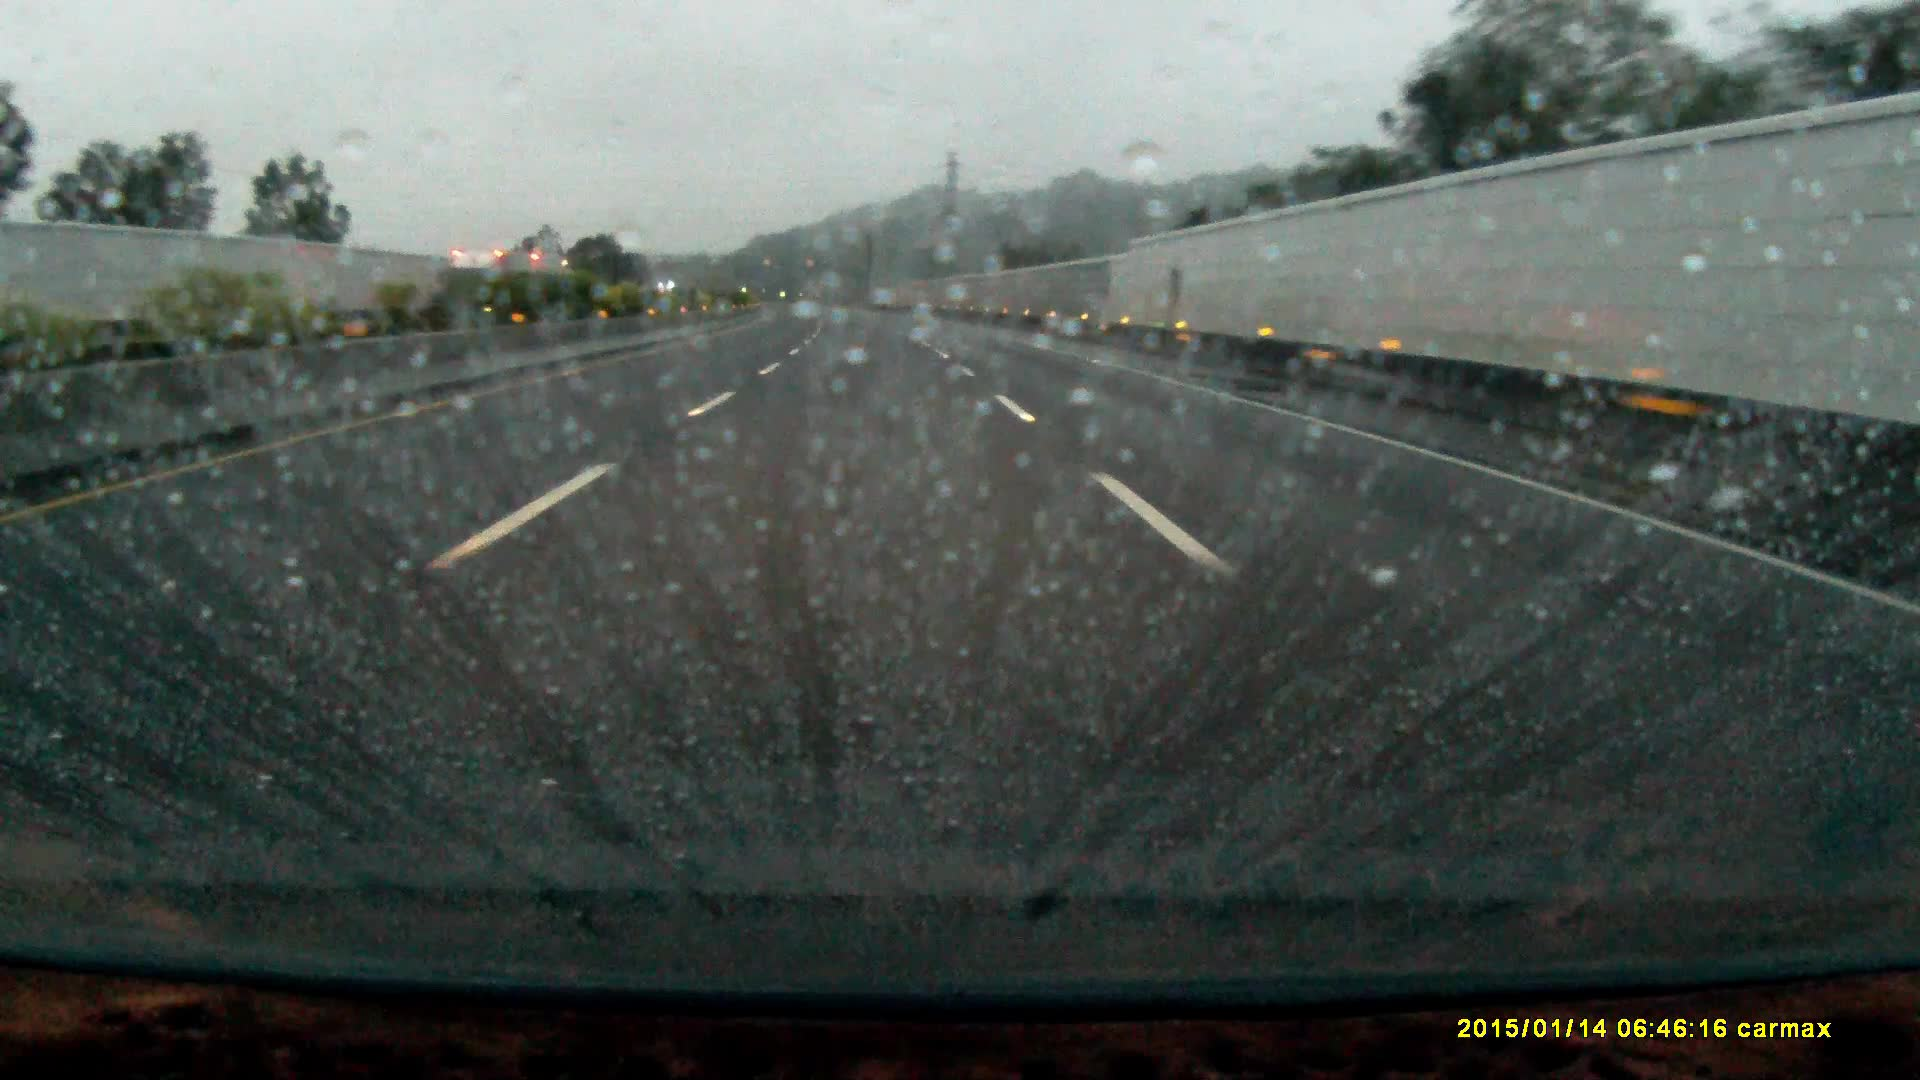vehicle: (440, 244, 562, 316)
